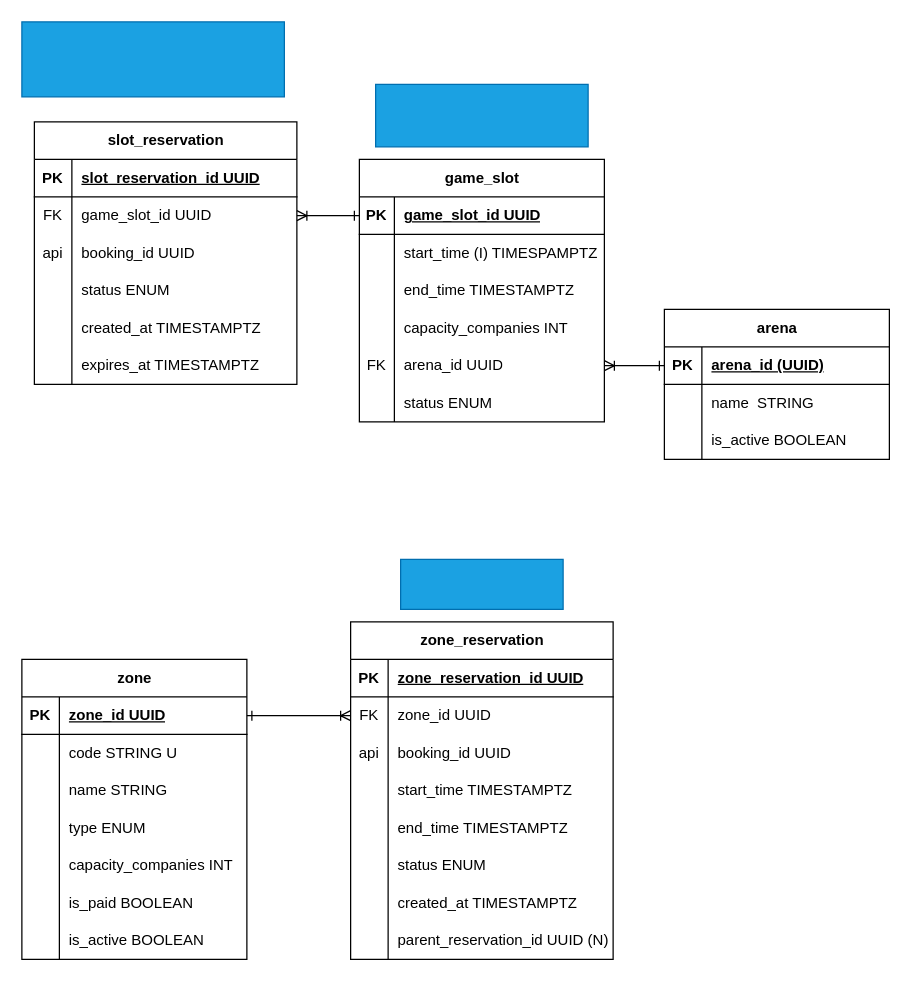
Some shapes in this 911 by 981 pixel diagram are drawn without their labels. Each missing label, with the box of its shape:
CHECK end_time > start_time: (399, 558, 563, 609)
CHECK end_time > start_time capacity_companies > 0: (374, 83, 588, 147)
CHECK: status HOLD -> expires_at NOT NULL иначе expires_at NULL: (21, 21, 284, 97)
